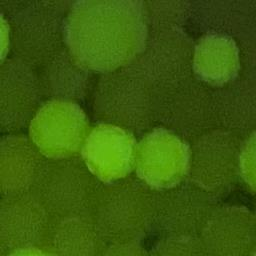negative: (92, 72, 158, 132), (95, 179, 155, 244), (190, 127, 242, 202), (35, 157, 98, 214), (157, 76, 214, 134), (155, 182, 214, 234), (200, 203, 256, 256), (0, 195, 49, 254), (14, 8, 63, 66), (1, 132, 46, 194), (1, 63, 38, 132), (149, 27, 197, 79), (49, 214, 107, 256), (215, 76, 256, 131), (152, 1, 192, 33), (154, 231, 204, 256), (97, 240, 151, 256)
positive: (60, 0, 152, 74), (134, 119, 193, 192), (29, 96, 89, 163), (83, 120, 138, 184), (191, 32, 241, 86), (235, 128, 256, 198), (0, 11, 12, 65)
